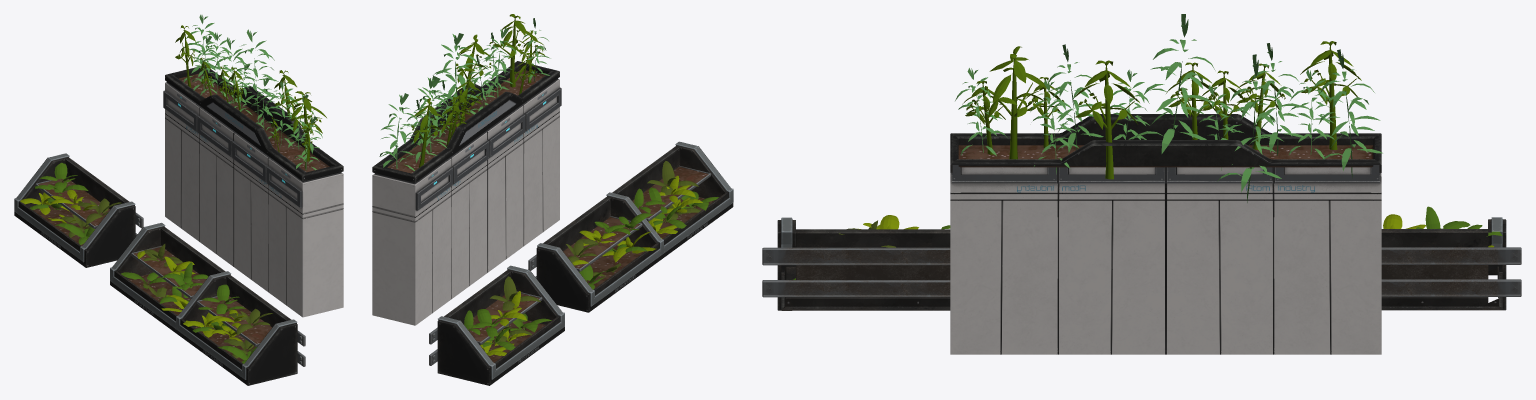
3 views of the same model, side by side, from view 1: azimuth 30°, elevation 25°; view 2: azimuth 150°, elevation 25°; view 3: azimuth 270°, elevation 25° (orthographic). The views are drawn at different scales.
Visible parts, largest first — view 1: plantpot_base6; view 2: plantpot_base6; view 3: plantpot_base6.
Part boxes in pixels (x1,y1,x2,y2): plantpot_base6: (14,14,343,385); plantpot_base6: (372,14,733,385); plantpot_base6: (762,14,1521,354).
Size of the model in its own units: 1.38 by 1.84 by 3.52.
7 materials, 2 textured.
